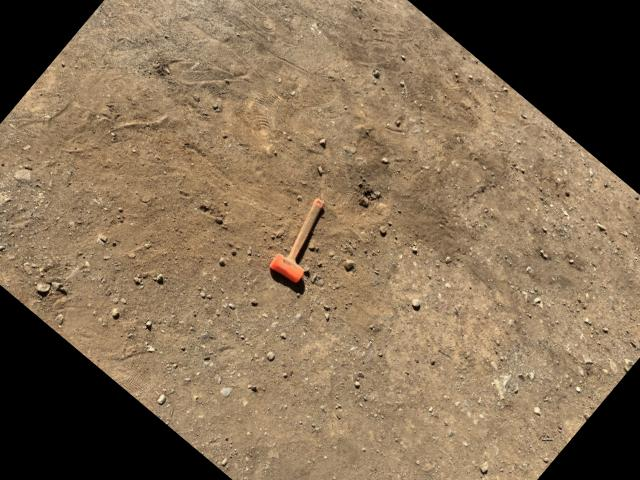hammer: (262, 196, 348, 287)
